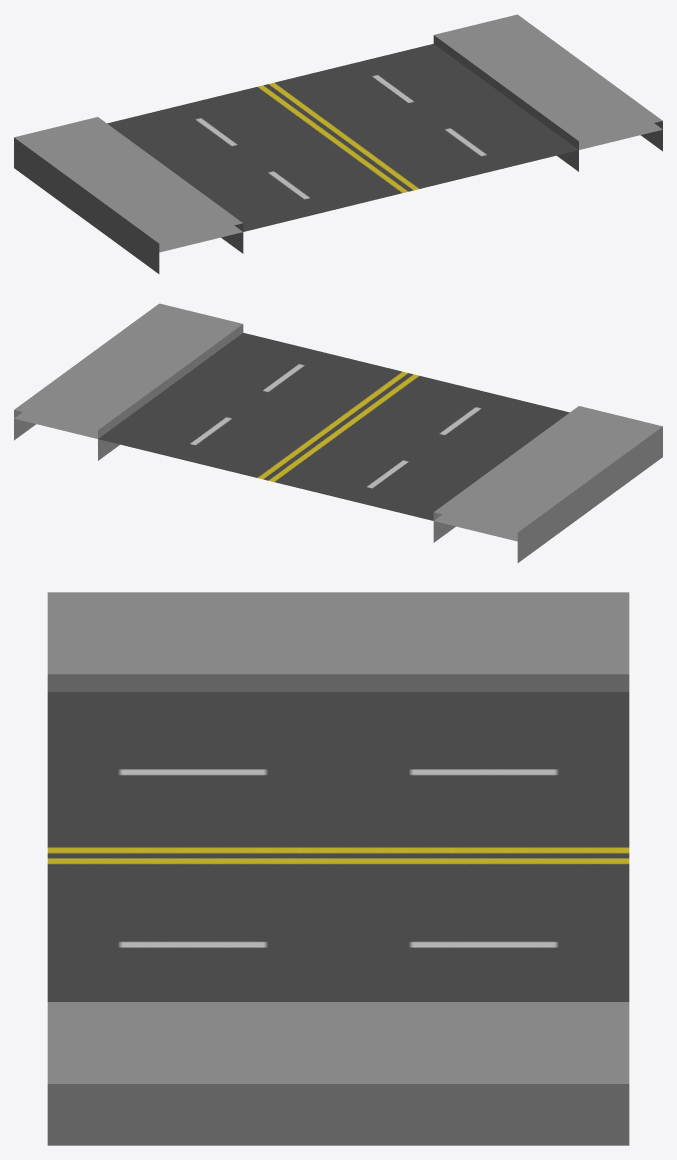
3 renders of one model, top to bottom at view 1: azimuth 30°, elevation 25°; view 2: azimuth 150°, elevation 25°; view 3: azimuth 270°, elevation 25°, orthographic. The views are drawn at different scales.
Visible parts, largest first — view 1: Model_0, Skybox; view 2: Model_0, Skybox; view 3: Model_0, Skybox.
Boxes of the visible parts, x1,y1,x2,y2 form: Model_0: (14,14,662,273); Skybox: (107,58,662,252); Model_0: (14,303,662,562); Skybox: (14,337,569,541); Model_0: (47,592,629,1145); Skybox: (47,692,629,1001).
Size of what is drawn, in the model's own units: 2400 by 140 by 1200.
